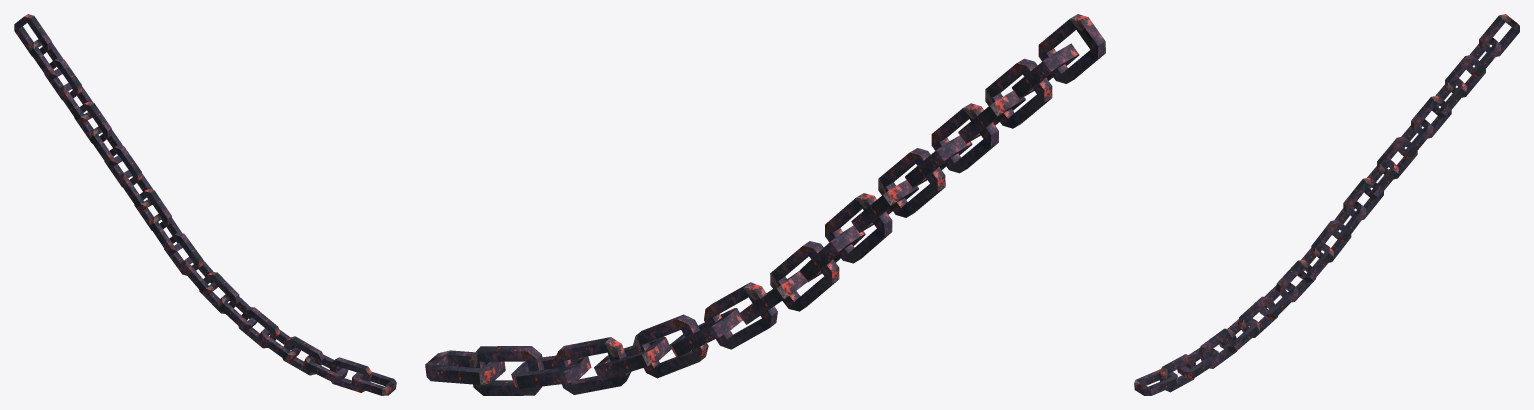
File: chain.fbx
3 views of the same model, side by side, from view 1: azimuth 30°, elevation 25°; view 2: azimuth 210°, elevation 25°; view 3: azimuth 270°, elevation 25° (orthographic). The views are drawn at different scales.
Parts seen in each view (by area): view 1: chain; view 2: chain; view 3: chain.
Part boxes in pixels (x1,y1,x2,y2): chain: (14,14,396,395); chain: (425,14,1105,395); chain: (1134,14,1519,395).
Bounding box in the file's own units: 6.42 × 9.11 × 10.84.
